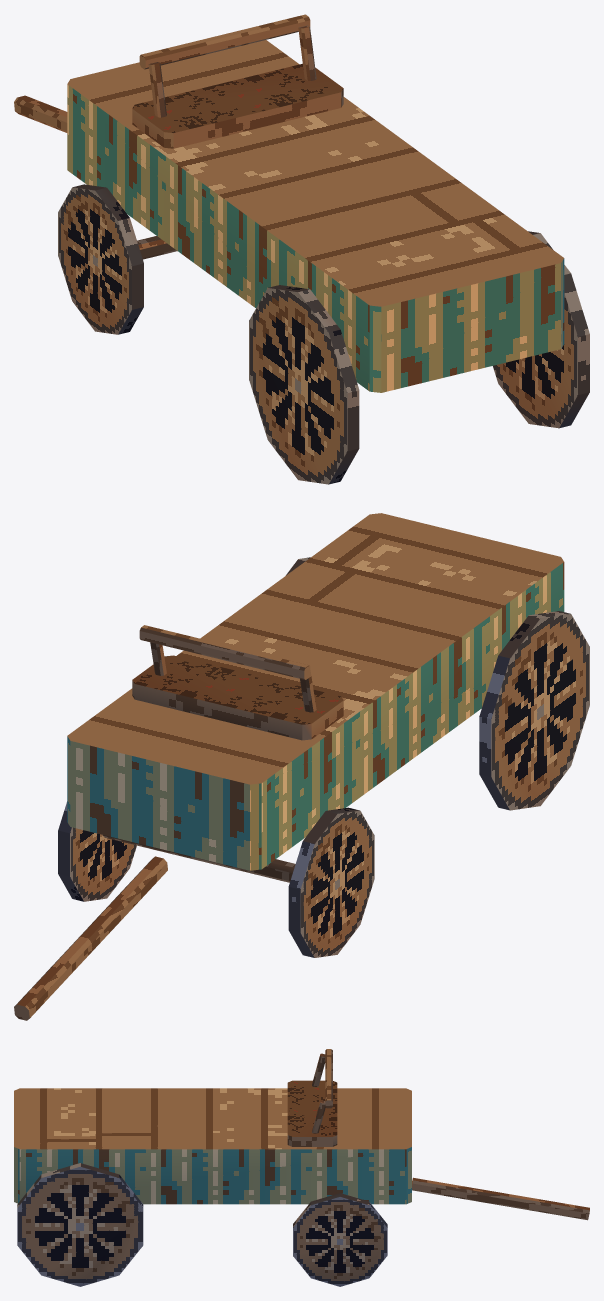
The model's file is wprop.wagon__buckboard.glb.
The picture shows the model from 3 angles, top to bottom: view 1: azimuth 30°, elevation 25°; view 2: azimuth 150°, elevation 25°; view 3: azimuth 270°, elevation 25°; orthographic projection. The views are drawn at different scales.
Parts seen in each view (by area): view 1: kit_box, kit_wheels, kit_seat, kit_tongue; view 2: kit_box, kit_wheels, kit_seat, kit_tongue, kit_axles; view 3: kit_box, kit_wheels, kit_seat, kit_tongue.
Boxes of the visible parts, x1,y1,x2,y2 form: kit_box: (67, 40, 564, 392); kit_wheels: (58, 184, 589, 484); kit_seat: (132, 14, 343, 148); kit_tongue: (14, 95, 67, 132); kit_box: (67, 513, 564, 870); kit_wheels: (58, 557, 589, 957); kit_seat: (132, 625, 343, 740); kit_tongue: (14, 856, 167, 1020); kit_axles: (102, 835, 295, 882); kit_box: (14, 1088, 411, 1204); kit_wheels: (17, 1163, 387, 1286); kit_seat: (287, 1049, 337, 1146); kit_tongue: (412, 1177, 589, 1220).
Size of the model in its own units: 1.62 by 1.74 by 5.21.
6 materials, 6 textured.
